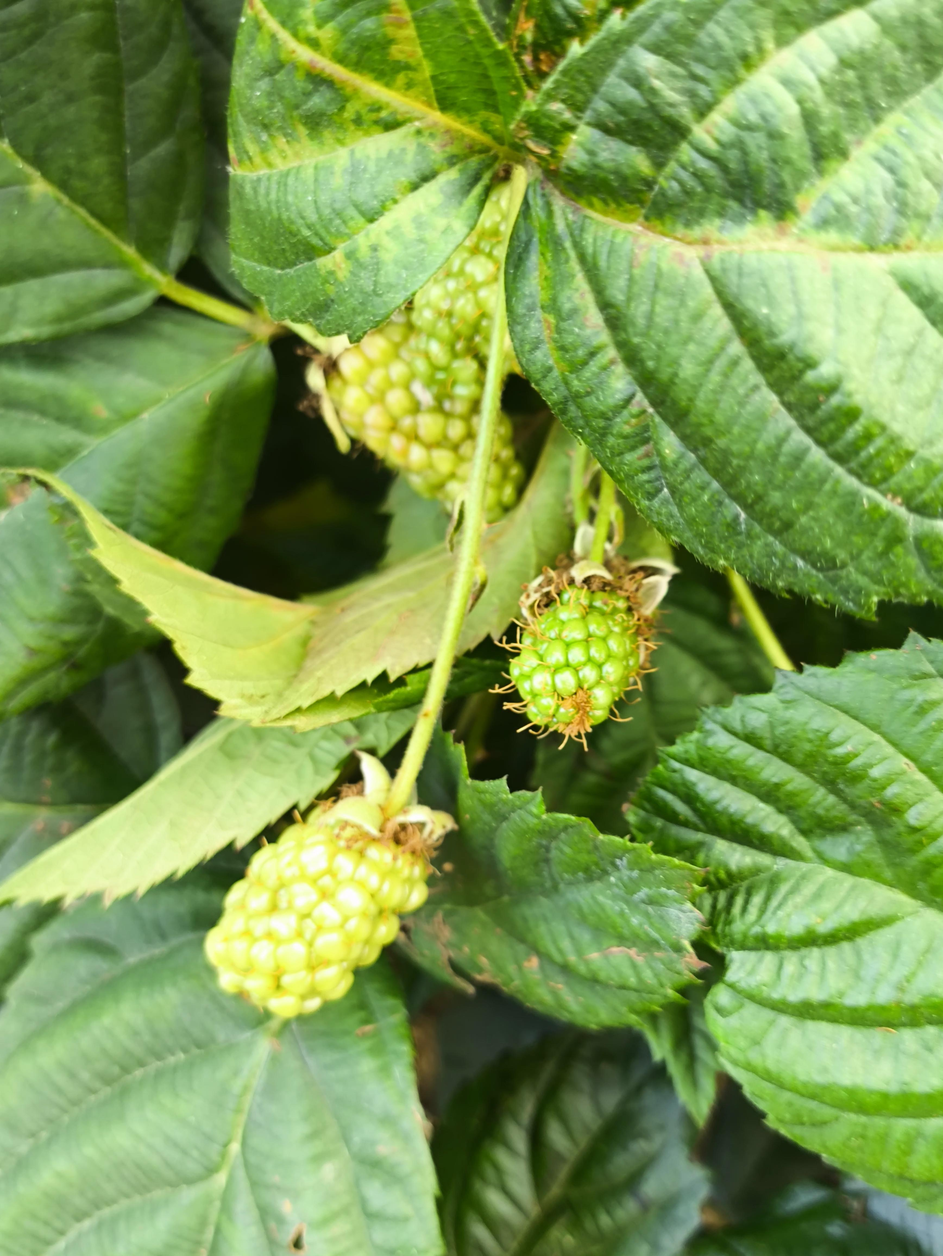verde: (205, 797, 427, 1018), (325, 321, 513, 517), (505, 557, 649, 749), (410, 186, 517, 412)
